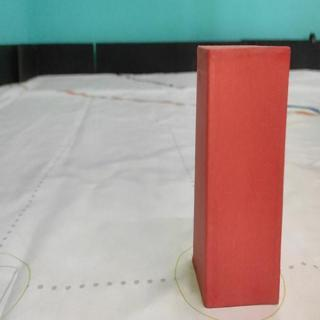redbox: (191, 42, 292, 308)
